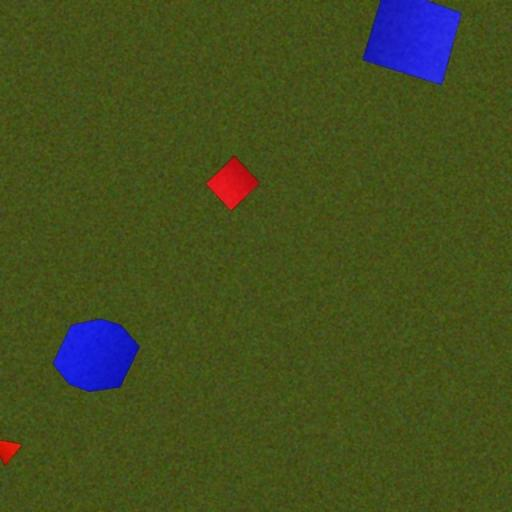BLUE_SQUARE: (362, 0, 462, 86)
RED_SQUARE: (205, 155, 261, 212)
